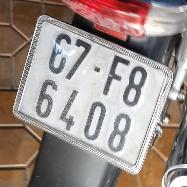0: (80, 97, 111, 145)
4: (55, 85, 87, 133)
6: (43, 28, 77, 78), (31, 76, 63, 123)
7: (62, 36, 95, 86)
8: (118, 62, 153, 112), (103, 108, 137, 156)
F: (99, 51, 133, 101)
